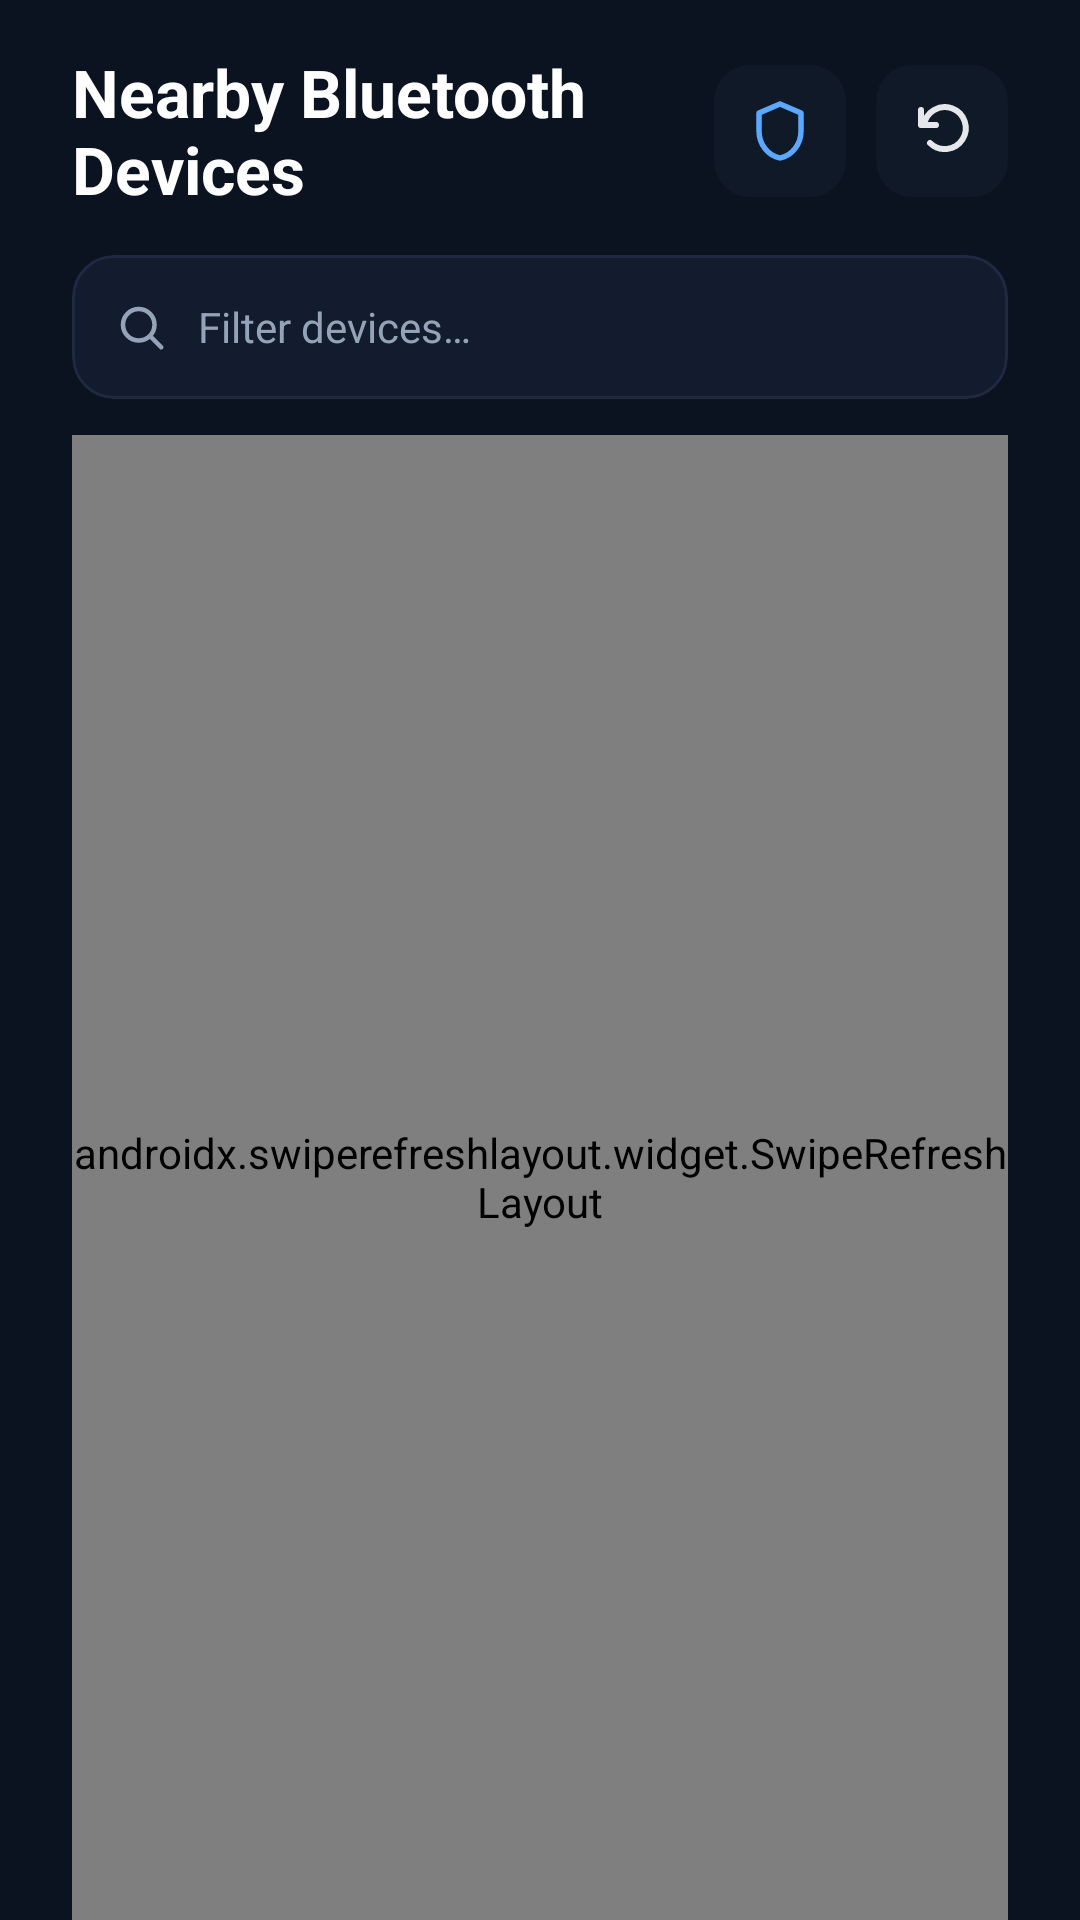

Icon click points for this 1080*1920 phone screenshot, format (x,y):
search line: (142,328)
